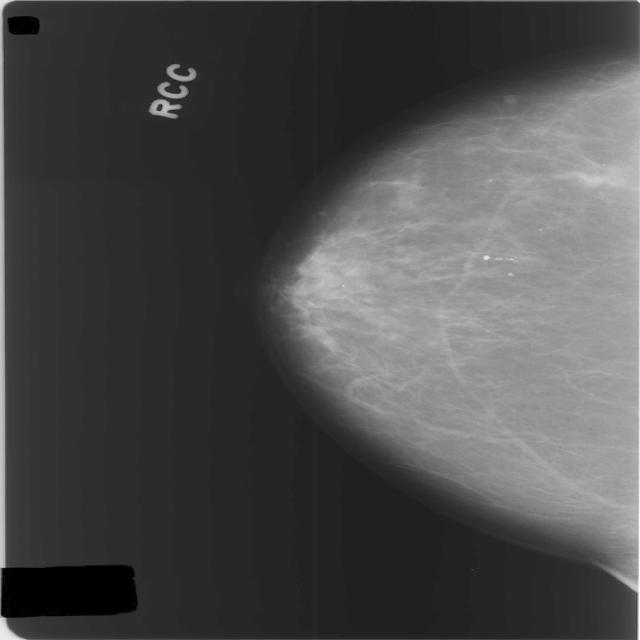tumour: (573, 162, 632, 188)
